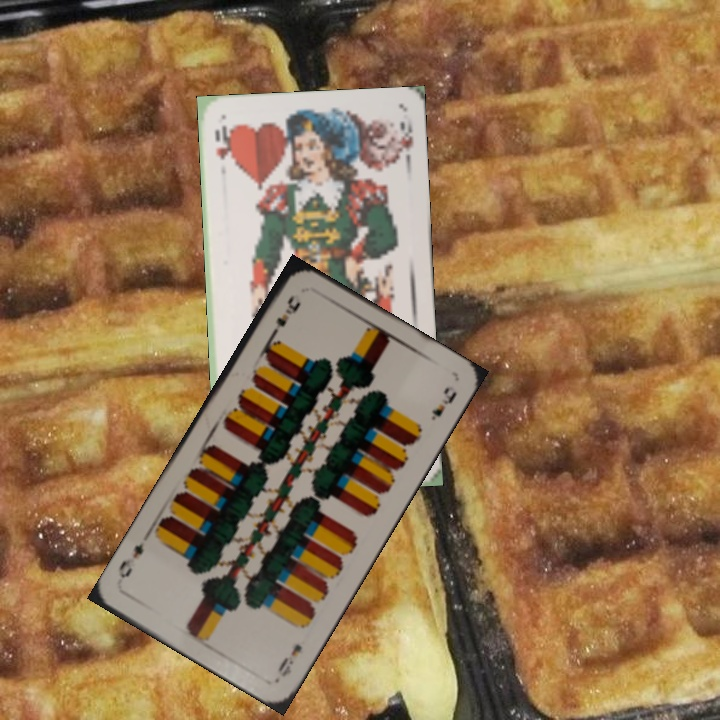E9: (273, 639, 305, 680), (272, 291, 302, 330)
HO: (210, 122, 233, 162)
